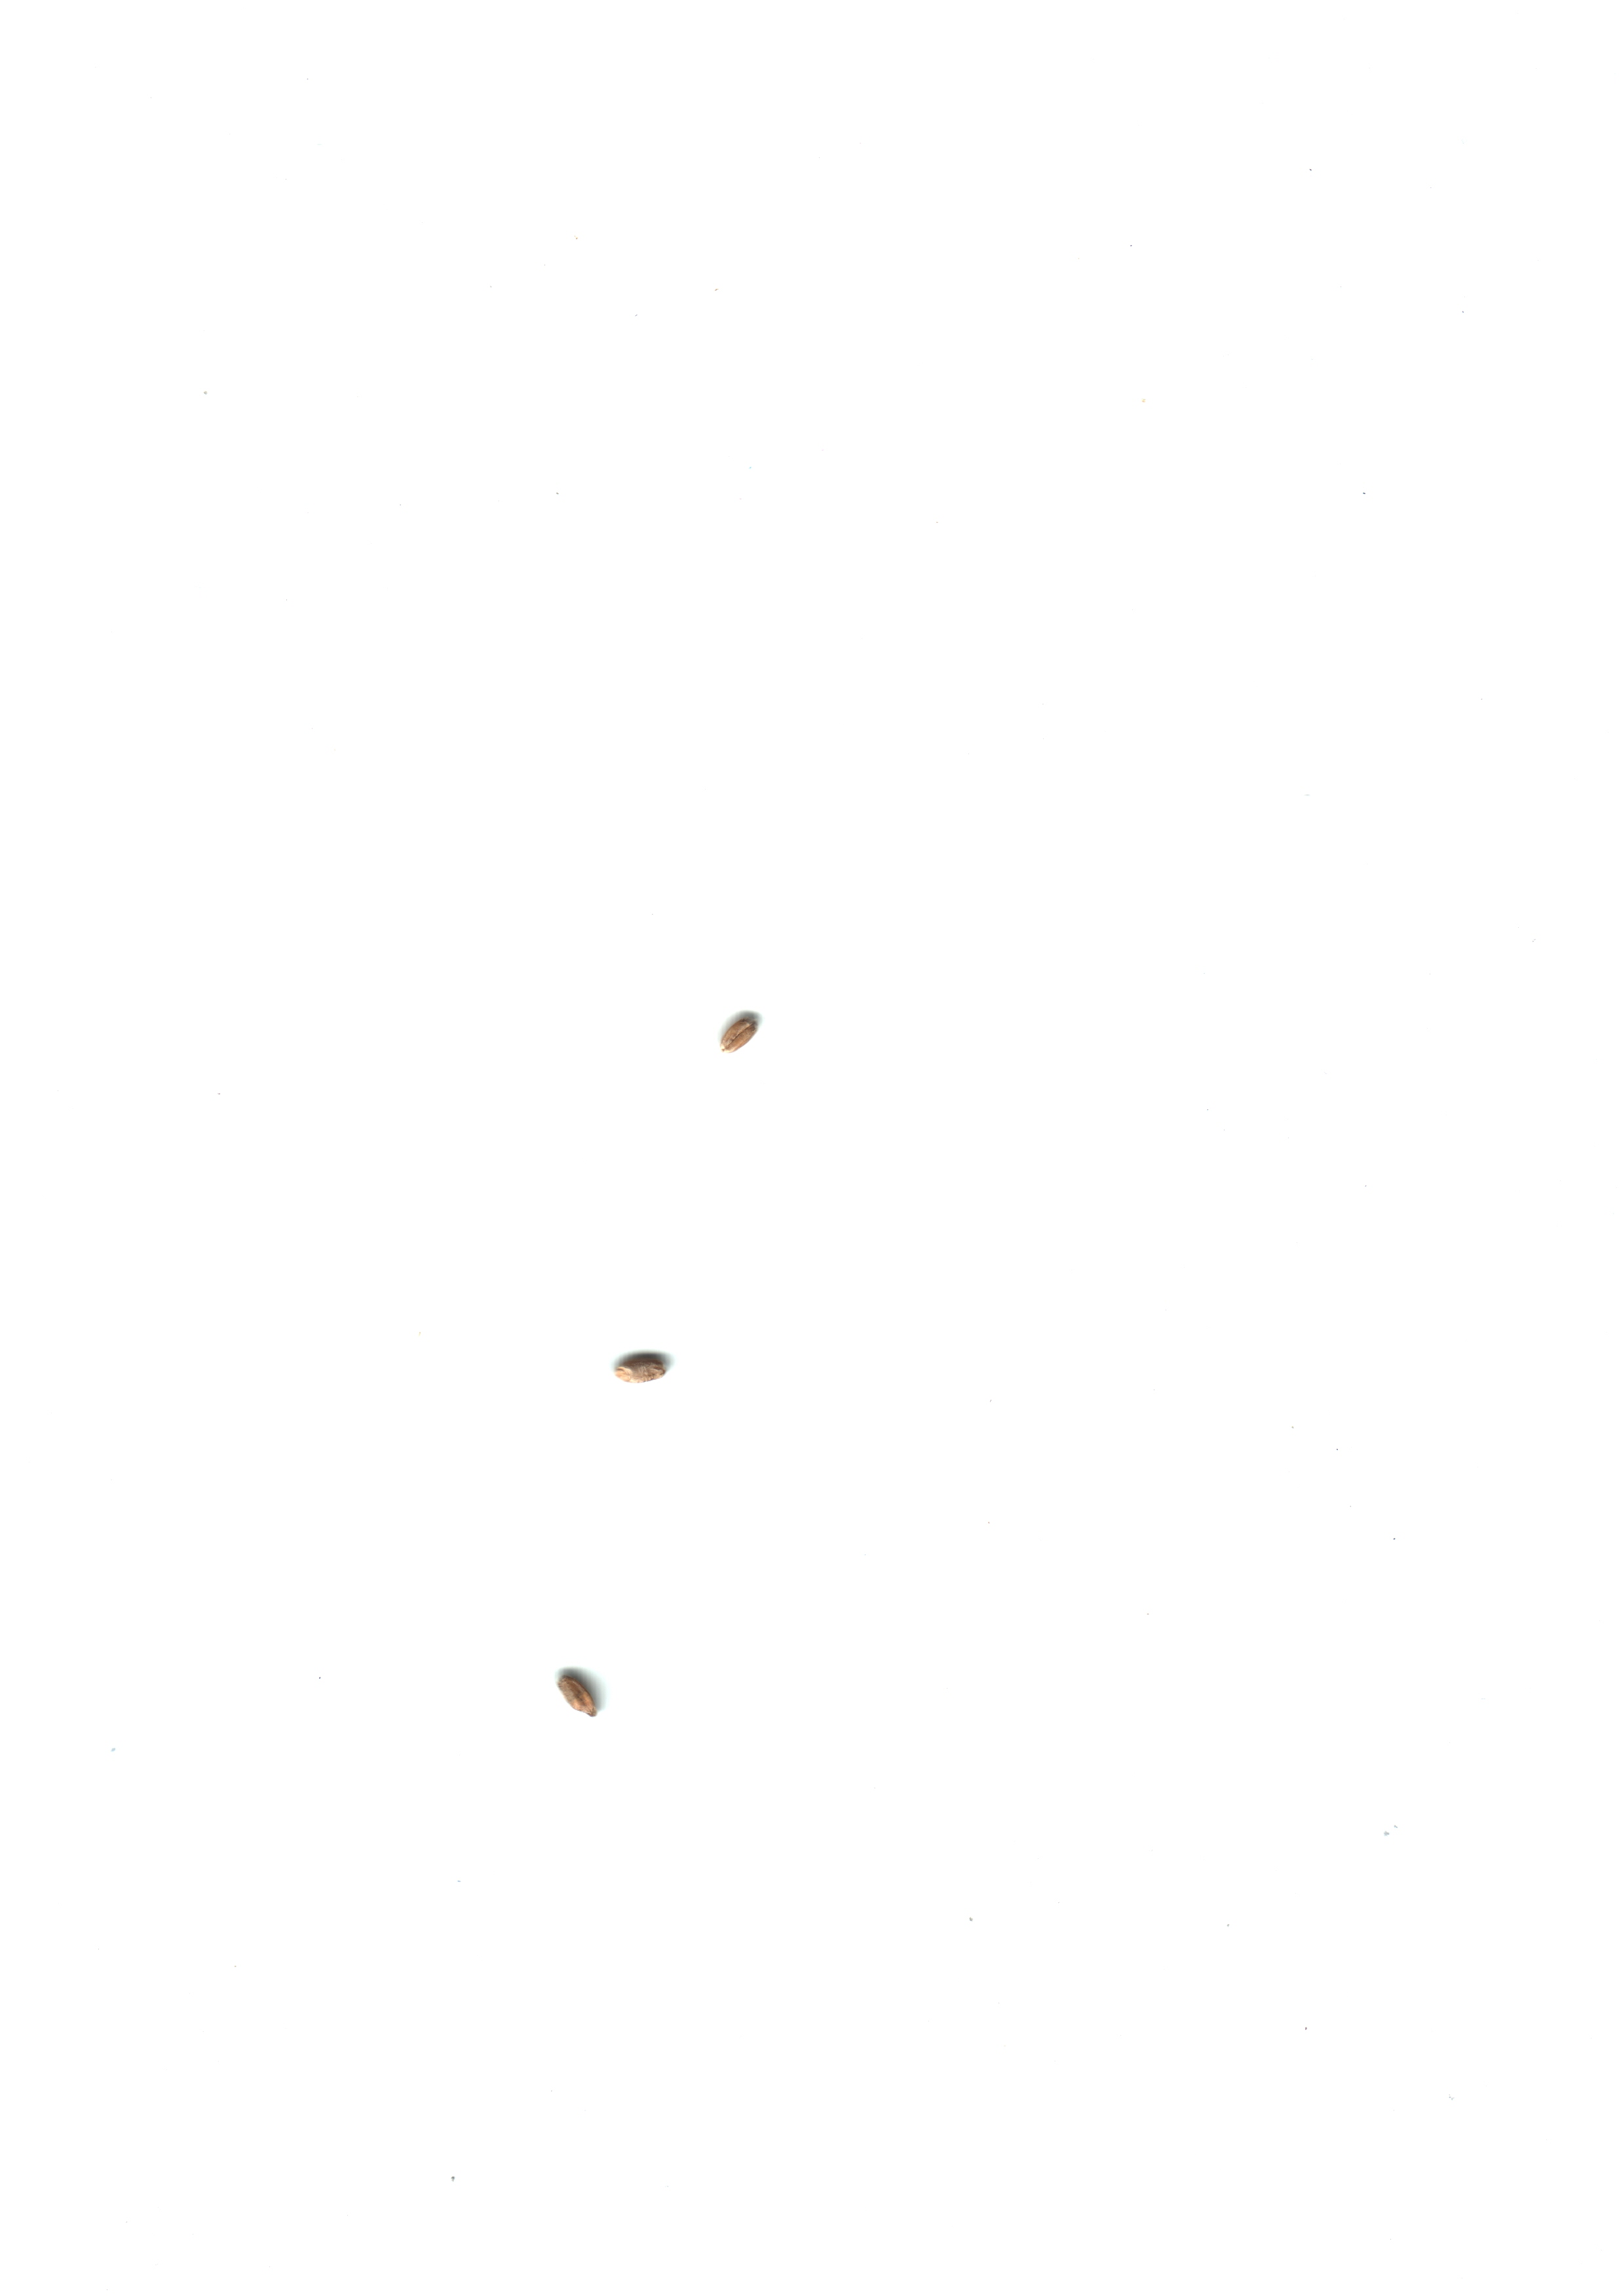grains_3mm: (594, 1327, 689, 1414), (682, 990, 776, 1078), (538, 1649, 633, 1735)
